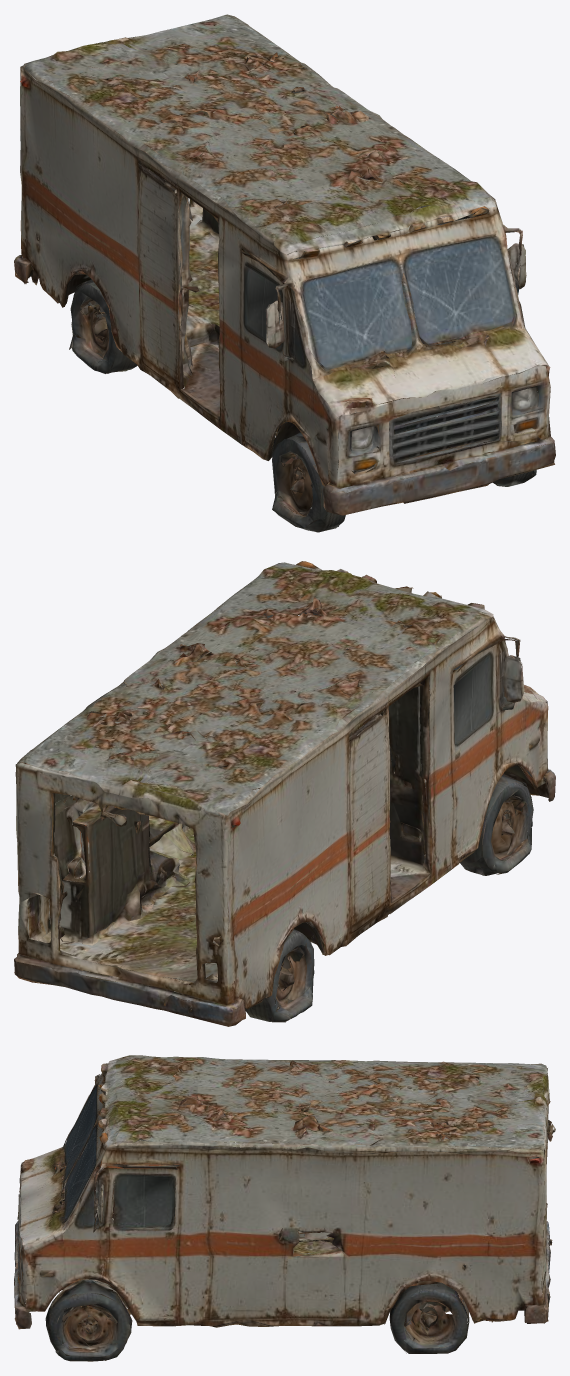
The model's file is depot_van.gltf.
3 renders of one model, top to bottom at view 1: azimuth 30°, elevation 25°; view 2: azimuth 150°, elevation 25°; view 3: azimuth 270°, elevation 25°, orthographic. The views are drawn at different scales.
Parts seen in each view (by area): view 1: texture_mapping; view 2: texture_mapping; view 3: texture_mapping.
Boxes of the visible parts, bbox=[...] form: texture_mapping: bbox=[14, 14, 555, 532]; texture_mapping: bbox=[14, 561, 555, 1026]; texture_mapping: bbox=[14, 1055, 555, 1361].
Bounding box in the file's own units: 2.55 × 2.62 × 5.6.
Materials: 1 (1 with a texture image).
